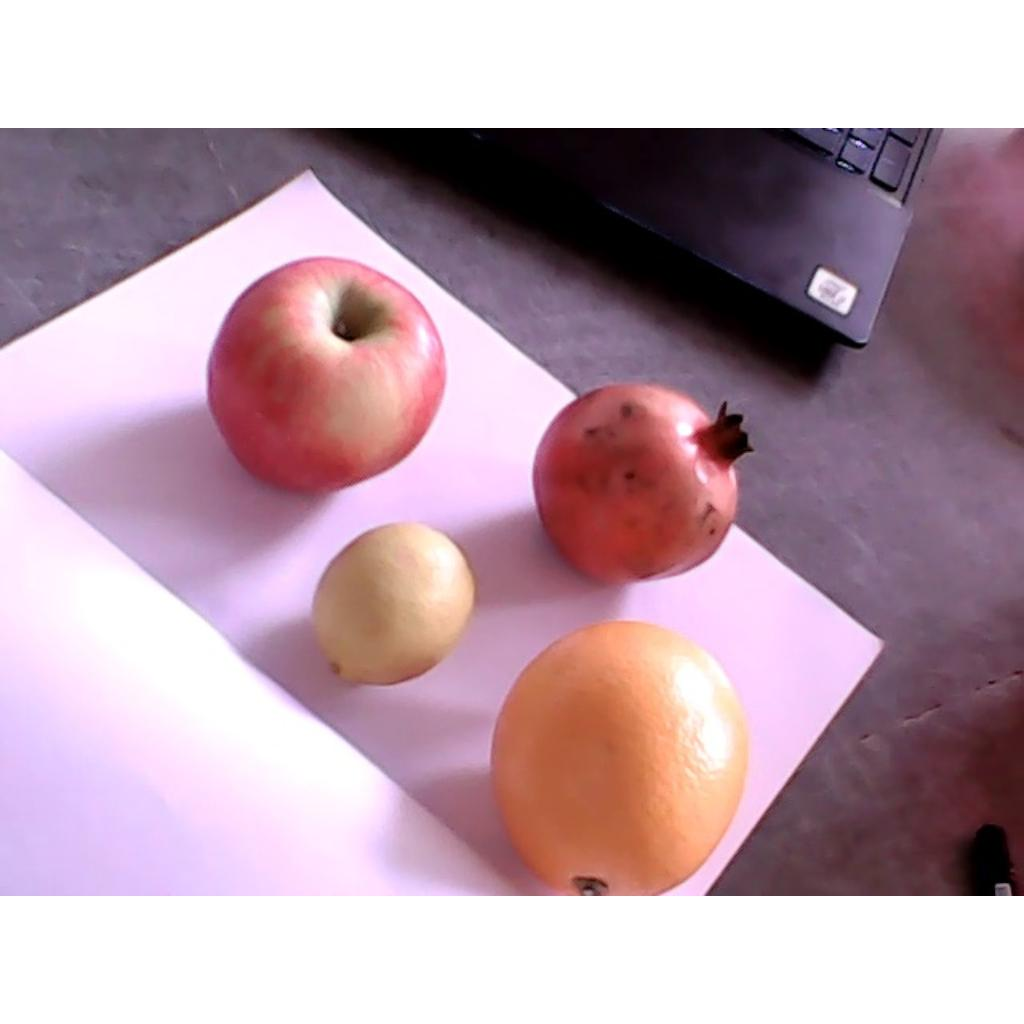apple: (206, 258, 446, 498)
lemon: (312, 518, 475, 685)
orange: (490, 620, 750, 894)
pomegranate: (534, 379, 759, 585)
